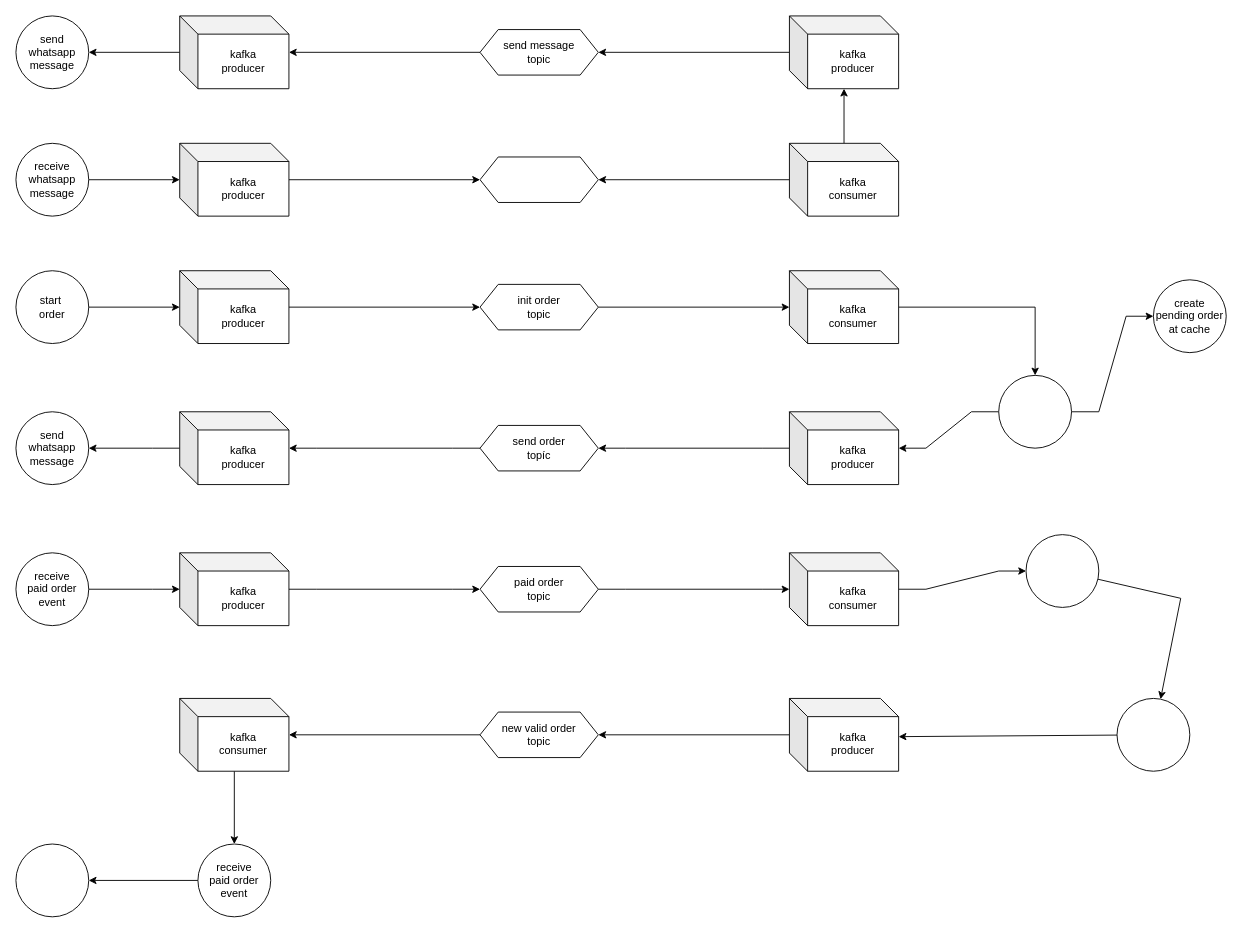
This 1242x933 diagram has some shape labels left out. Here are the shapes that lost their labels. From the top down, the centre of each, then its label:
At point (538, 179): "new message topic".
At point (1035, 411): "calc order".
At point (1062, 570): "verify order".
At point (1153, 734): "remove pending order".
At point (52, 880): "send new order to kitchen".
